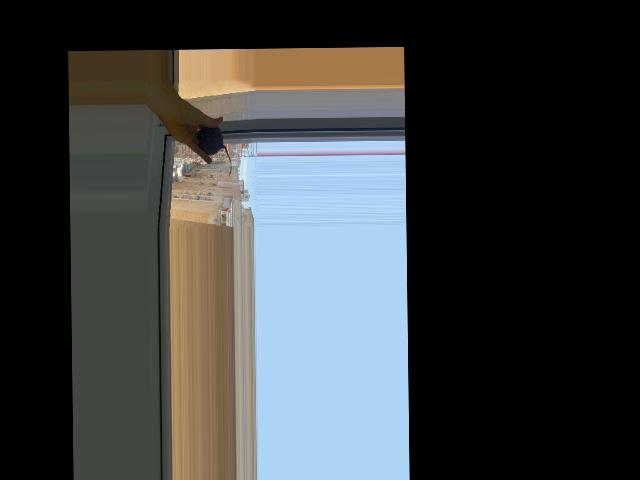beet: (196, 127, 231, 177)
